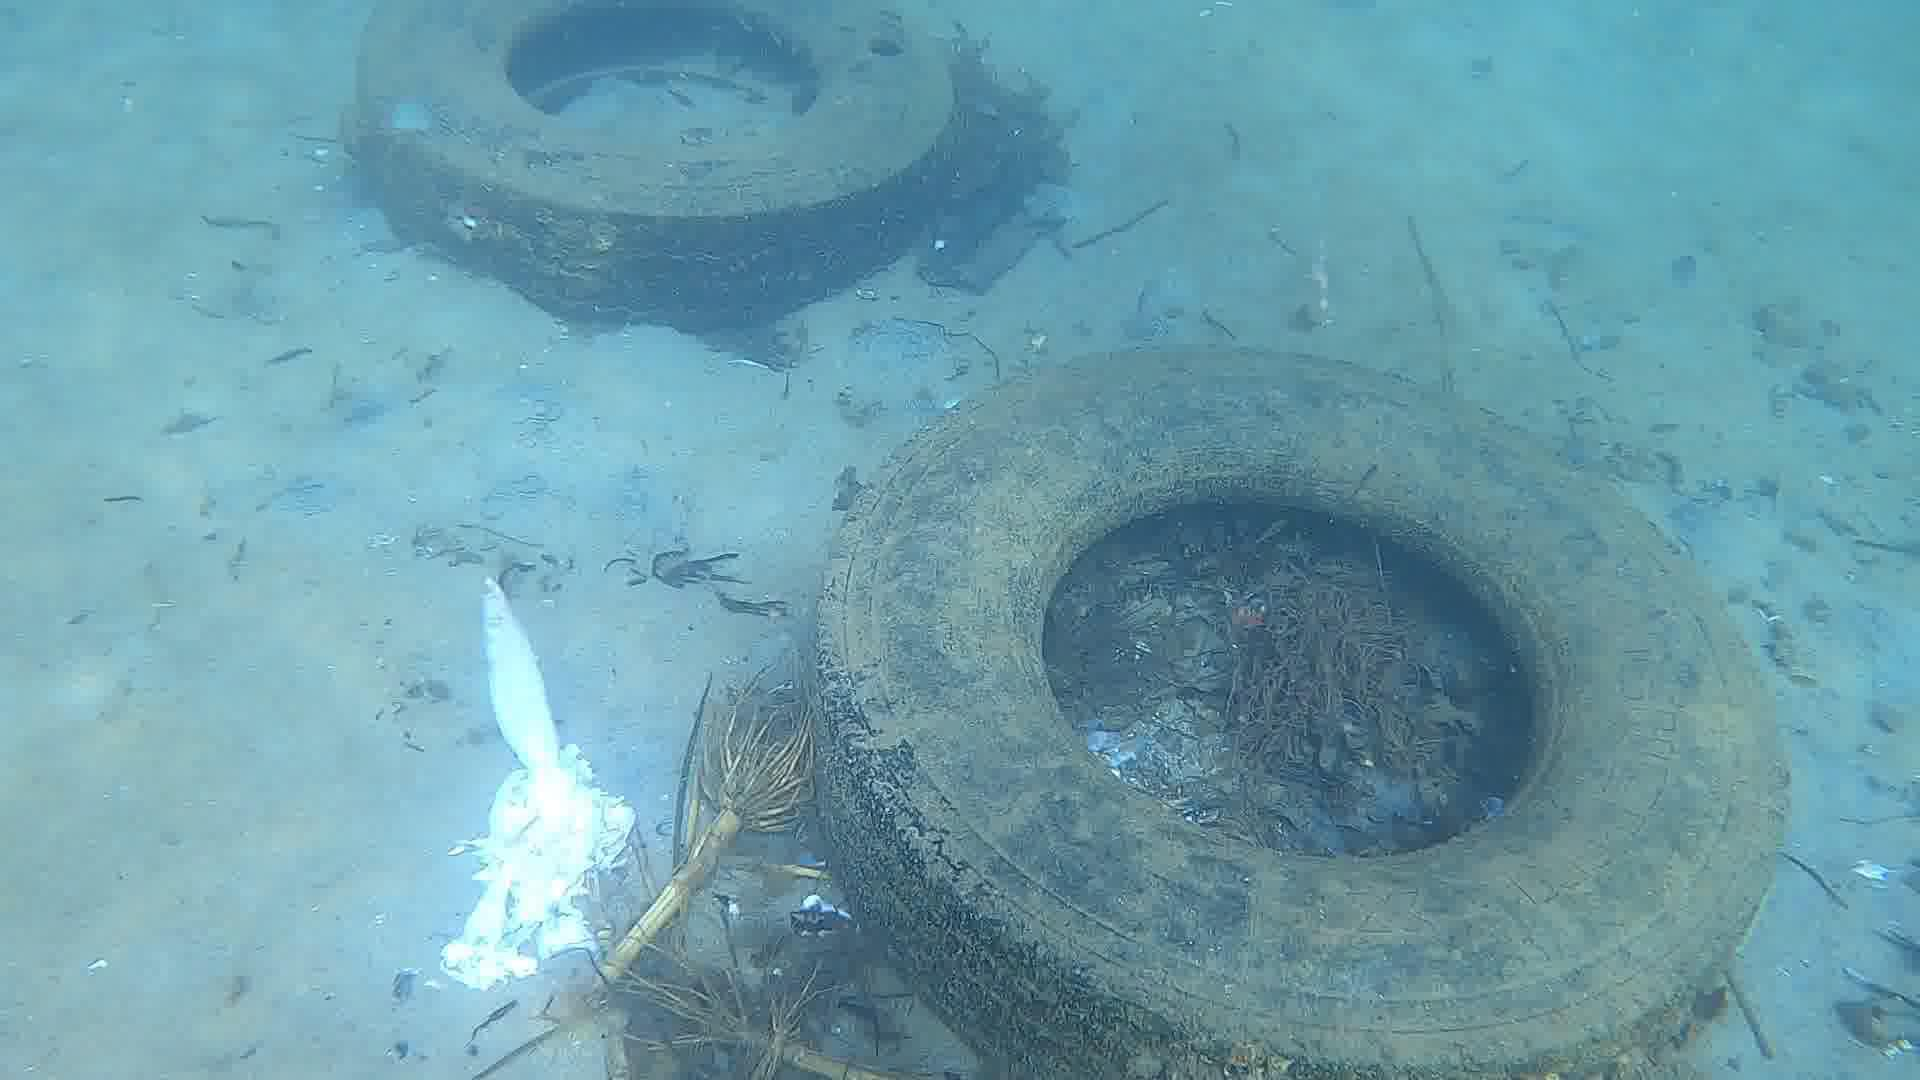tire: (804, 344, 1789, 1080), (345, 0, 953, 324)
